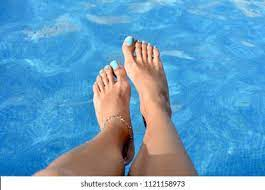Feet: (120, 36, 173, 130), (91, 60, 133, 162)
